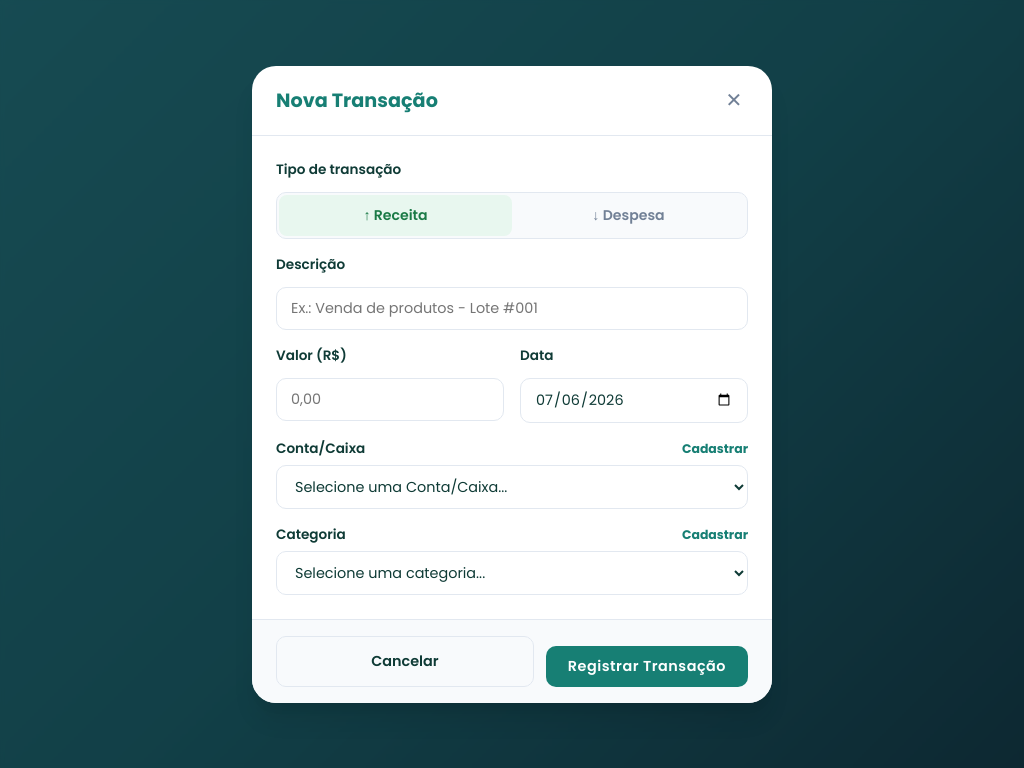
Test: ModalTransacao › movimentacao vazia mostra erros e nao salva
What coordinates should you click on to do the following:
click the button "Registrar Transação"
I would click on:
 (647, 666)
Its box is [546, 646, 748, 686].
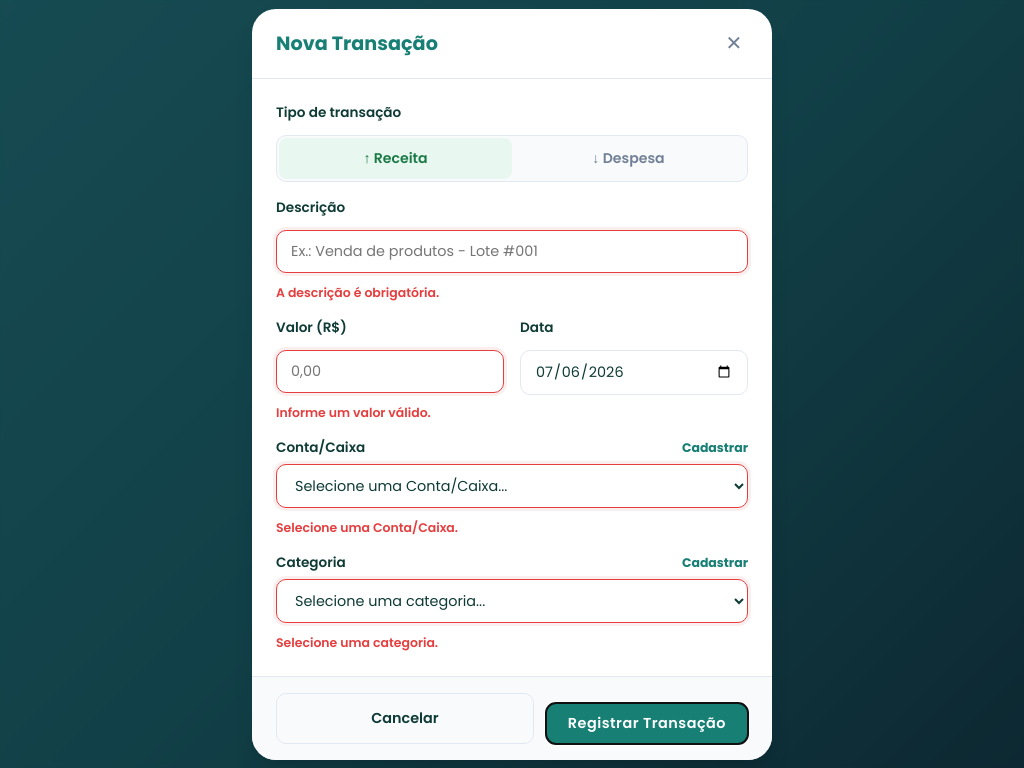
Now the text "A descrição é obrigatória." is shown, box [276, 284, 439, 300]
Now the text "Informe um valor válido." is shown, box [276, 404, 431, 420]
